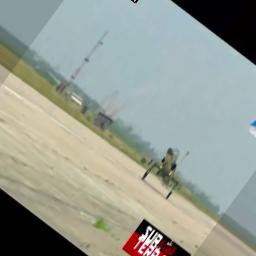Airplane: (140, 143, 194, 200)
